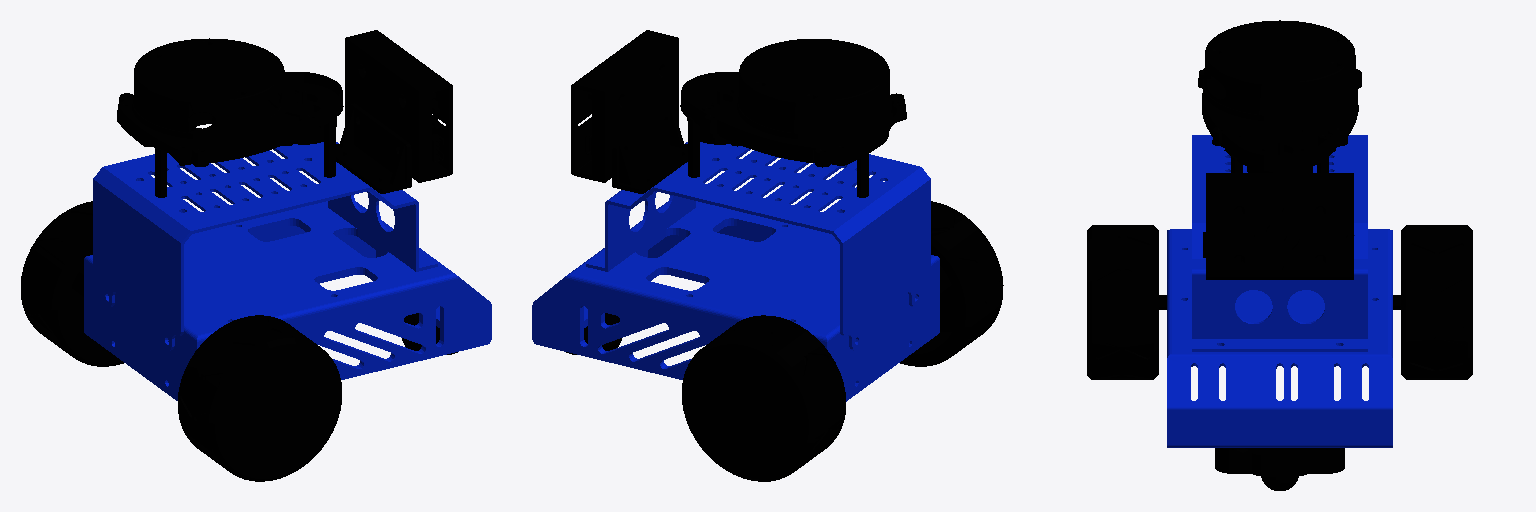
The robot description file, URDF, robot "leap_ros":
<?xml version="1.0"?>
<robot name="leap_ros">
  <material name="dark_gray">
    <color rgba="0.08 0.08 0.08 1.0"/>
  </material>
  <material name="matte_black">
    <color rgba="0.01 0.01 0.01 1.0"/>
  </material>
  <material name="blue">
    <color rgba="0.05 0.18 0.8 1.0"/>
  </material>
  <material name="silver">
    <color rgba="0.65 0.68 0.70 1.0"/>
  </material>

  <link name="base_footprint"/>

  <joint name="base_joint" type="fixed">
    <parent link="base_footprint"/>
    <child link="base_link"/>
    <origin xyz="0 0 0.06205" rpy="0 0 0"/>
  </joint>

  <link name="base_link">
    <inertial>
      <origin xyz="0 0 0.02" rpy="0 0 0"/>
      <mass value="2.0"/>
      <inertia ixx="0.01" ixy="0.0" ixz="0.0" iyy="0.02" iyz="0.0" izz="0.02"/>
    </inertial>
    <collision>
      <origin xyz="0 0 0" rpy="0 0 0"/>
      <geometry>
        <box size="0.1445 0.095 0.0805"/>
      </geometry>
    </collision>
  </link>

  <link name="chassis_link">
    <visual>
      <origin xyz="0.00225 0 -0.00925" rpy="0 0 1.57079632679"/>
      <geometry>
        <mesh filename="package://chuyun_description/meshes/leap_ros/chassis.stl" scale="0.001 0.001 0.001"/>
      </geometry>
      <material name="blue"/>
    </visual>
  </link>
  <joint name="chassis_joint" type="fixed">
    <parent link="base_link"/>
    <child link="chassis_link"/>
    <origin xyz="0 0 0" rpy="0 0 0"/>
  </joint>

  <link name="drive_wheels_link">
    <visual>
      <origin xyz="0.053 0 0.020298" rpy="0 0 1.57079632679"/>
      <geometry>
        <mesh filename="package://chuyun_description/meshes/leap_ros/drive_wheels.stl" scale="0.001 0.001 0.001"/>
      </geometry>
      <material name="matte_black"/>
    </visual>
  </link>
  <joint name="drive_wheels_joint" type="fixed">
    <parent link="base_link"/>
    <child link="drive_wheels_link"/>
    <origin xyz="-0.05075 0 -0.029548" rpy="0 0 0"/>
  </joint>

  <link name="left_wheel_link"/>
  <joint name="left_wheel_joint" type="continuous">
    <parent link="base_link"/>
    <child link="left_wheel_link"/>
    <origin xyz="-0.05075 0.081 -0.02955" rpy="0 0 0"/>
    <axis xyz="0 1 0"/>
  </joint>

  <link name="right_wheel_link"/>
  <joint name="right_wheel_joint" type="continuous">
    <parent link="base_link"/>
    <child link="right_wheel_link"/>
    <origin xyz="-0.05075 -0.081 -0.02955" rpy="0 0 0"/>
    <axis xyz="0 1 0"/>
  </joint>

  <link name="caster_link">
    <visual>
      <origin xyz="-0.06294 0.00001 0.0419" rpy="0 0 1.57079632679"/>
      <geometry>
        <mesh filename="package://chuyun_description/meshes/leap_ros/caster_wheel.stl" scale="0.001 0.001 0.001"/>
      </geometry>
      <material name="matte_black"/>
    </visual>
  </link>
  <joint name="caster_joint" type="fixed">
    <parent link="base_link"/>
    <child link="caster_link"/>
    <origin xyz="0.06519 -0.00001 -0.05115" rpy="0 0 0"/>
  </joint>

  <link name="battery_link">
    <visual>
      <origin xyz="0.027 0 -0.0145" rpy="0 0 1.57079632679"/>
      <geometry>
        <mesh filename="package://chuyun_description/meshes/leap_ros/battery.stl" scale="0.001 0.001 0.001"/>
      </geometry>
      <material name="dark_gray"/>
    </visual>
  </link>
  <joint name="battery_joint" type="fixed">
    <parent link="base_link"/>
    <child link="battery_link"/>
    <origin xyz="-0.02475 0 0.00525" rpy="0 0 0"/>
  </joint>

  <link name="controller_link">
    <visual>
      <origin xyz="0.027 0.000108 -0.027255" rpy="0 0 1.57079632679"/>
      <geometry>
        <mesh filename="package://chuyun_description/meshes/leap_ros/controller.stl" scale="0.001 0.001 0.001"/>
      </geometry>
      <material name="silver"/>
    </visual>
  </link>
  <joint name="controller_joint" type="fixed">
    <parent link="base_link"/>
    <child link="controller_link"/>
    <origin xyz="-0.02475 -0.000108 0.018005" rpy="0 0 0"/>
  </joint>

  <link name="tt_motor_link">
    <visual>
      <origin xyz="0.029154 0 0.0203" rpy="0 0 1.57079632679"/>
      <geometry>
        <mesh filename="package://chuyun_description/meshes/leap_ros/tt_motor.stl" scale="0.001 0.001 0.001"/>
      </geometry>
      <material name="dark_gray"/>
    </visual>
  </link>
  <joint name="tt_motor_joint" type="fixed">
    <parent link="base_link"/>
    <child link="tt_motor_link"/>
    <origin xyz="-0.026904 0 -0.02955" rpy="0 0 0"/>
  </joint>

  <link name="laser_frame">
    <visual>
      <origin xyz="0.02495 -0.000062 -0.07295" rpy="0 0 1.57079632679"/>
      <geometry>
        <mesh filename="package://chuyun_description/meshes/leap_ros/lidar.stl" scale="0.001 0.001 0.001"/>
      </geometry>
      <material name="matte_black"/>
    </visual>
  </link>
  <joint name="laser_joint" type="fixed">
    <parent link="base_link"/>
    <child link="laser_frame"/>
    <origin xyz="-0.0227 0.000062 0.0637" rpy="0 0 0"/>
  </joint>

  <link name="camera_link">
    <visual>
      <origin xyz="-0.045466 0.000603 -0.061658" rpy="0 0 1.57079632679"/>
      <geometry>
        <mesh filename="package://chuyun_description/meshes/leap_ros/camera.stl" scale="0.001 0.001 0.001"/>
      </geometry>
      <material name="matte_black"/>
    </visual>
  </link>
  <joint name="camera_joint" type="fixed">
    <parent link="base_link"/>
    <child link="camera_link"/>
    <origin xyz="0.047716 -0.000603 0.052408" rpy="0 0 0"/>
  </joint>

  <link name="ultrasonic_link">
    <visual>
      <origin xyz="-0.040401 0 -0.0215" rpy="0 0 1.57079632679"/>
      <geometry>
        <mesh filename="package://chuyun_description/meshes/leap_ros/ultrasonic.stl" scale="0.001 0.001 0.001"/>
      </geometry>
      <material name="silver"/>
    </visual>
  </link>
  <joint name="ultrasonic_joint" type="fixed">
    <parent link="base_link"/>
    <child link="ultrasonic_link"/>
    <origin xyz="0.042651 0 0.01225" rpy="0 0 0"/>
  </joint>

  <link name="imu_link"/>
  <joint name="imu_joint" type="fixed">
    <parent link="base_link"/>
    <child link="imu_link"/>
    <origin xyz="0 0 0.03" rpy="0 0 0"/>
  </joint>
</robot>

--- Facts derived from the render (not from the file) ---
Views: 3 orthographic renders of the robot side by side, from view 1: azimuth 30°, elevation 25°; view 2: azimuth 150°, elevation 25°; view 3: azimuth 270°, elevation 25°.
Robot: leap_ros — 14 links, 13 joints (2 continuous, 11 fixed); root link base_footprint; default pose: every joint at zero.
Visible links, largest first — view 1: chassis_link, drive_wheels_link, laser_frame, camera_link; view 2: chassis_link, drive_wheels_link, laser_frame, camera_link; view 3: chassis_link, drive_wheels_link, laser_frame, camera_link, caster_link.
Link boxes in pixels (bbox=[...]): chassis_link: bbox=[84, 142, 491, 400]; drive_wheels_link: bbox=[21, 201, 341, 481]; laser_frame: bbox=[117, 38, 343, 197]; camera_link: bbox=[336, 30, 452, 193]; chassis_link: bbox=[532, 142, 939, 401]; drive_wheels_link: bbox=[682, 201, 1003, 481]; laser_frame: bbox=[680, 39, 906, 197]; camera_link: bbox=[571, 30, 687, 193]; chassis_link: bbox=[1167, 135, 1392, 447]; drive_wheels_link: bbox=[1087, 225, 1472, 379]; laser_frame: bbox=[1198, 20, 1361, 172]; camera_link: bbox=[1203, 173, 1353, 279]; caster_link: bbox=[1215, 448, 1344, 490].
Size in the robot's own frame: 0.1581 by 0.162 by 0.1552 metres.
5 mesh visuals loaded from 9 distinct referenced files (5 binary STL); not drawn: 4 (reference not matched to a file when rendering).
